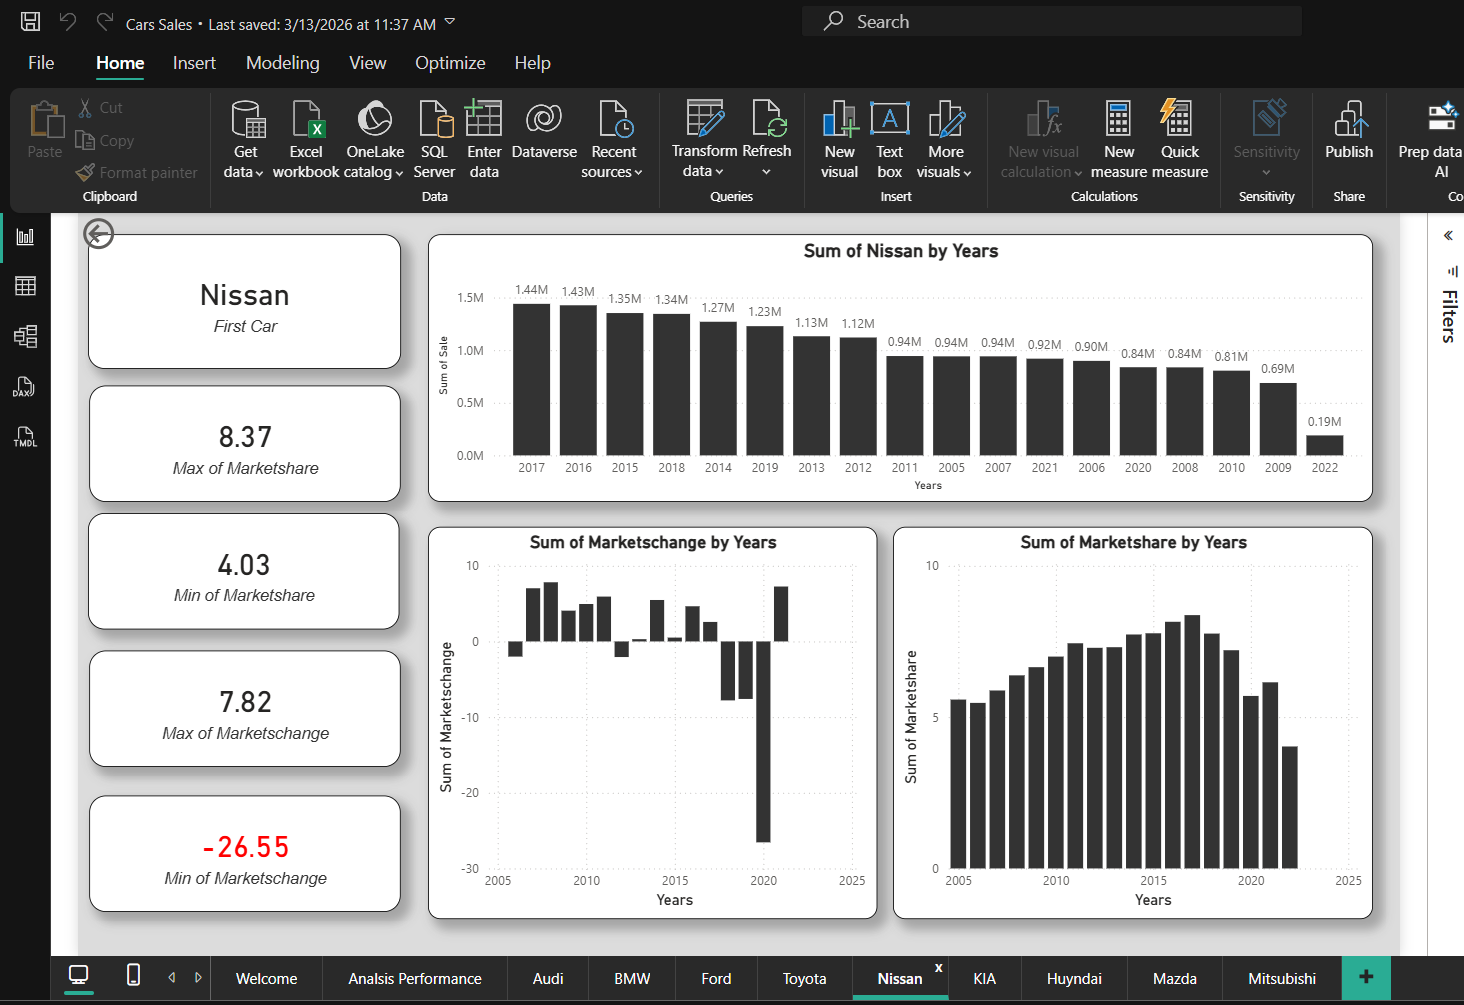

What the dashboard file says about the page in this screenshot:
{"tool":"powerbi","page":{"name":"Nissan","canvas":[1280,720],"ordinal":6},"visuals":[{"type":"card","fields":{"Values":["Min(CAR SALES GLOBALY.Car)"]},"box":[9.6,20.6,303.3,130.4],"z":0},{"type":"actionButton","box":[0,0,100,40],"z":1000},{"type":"card","fields":{"Values":["Max(CAR SALES GLOBALY.Marketshare)"]},"box":[11,167.4,301.9,112.5],"z":2000},{"type":"card","fields":{"Values":["Min(CAR SALES GLOBALY.Marketschange)"]},"box":[11,564,301.9,112.5],"z":3000},{"type":"card","fields":{"Values":["Max(CAR SALES GLOBALY.Marketschange)"]},"box":[11,424,301.9,112.5],"z":4000},{"type":"card","fields":{"Values":["Min(CAR SALES GLOBALY.Marketshare)"]},"box":[9.6,290.9,301.9,112.5],"z":5000},{"type":"columnChart","title":"Sum of Nissan by Years","fields":{"Category":["CAR SALES GLOBALY.Years"],"Y":["Sum(CAR SALES GLOBALY.Sale)"]},"box":[338.9,20.6,915.3,259.3],"z":6000},{"type":"lineStackedColumnComboChart","fields":{"Category":["CAR SALES GLOBALY.Years"],"Y":["Sum(CAR SALES GLOBALY.Marketschange)"]},"box":[338.9,303.3,435,380.1],"z":7000},{"type":"lineStackedColumnComboChart","fields":{"Category":["CAR SALES GLOBALY.Years"],"Y":["Sum(CAR SALES GLOBALY.Marketshare)"]},"box":[789,303.3,465.2,380.1],"z":8000}]}

Visuals, with their boxes on the page's 1280x720 design canvas (x1, y1, x2, y2). These are canvas units, not pixel positions in the 1464x1005 screenshot, which may show the page scaled, cropped or inside an application window:
card - Min(CAR SALES GLOBALY.Car): detection(10, 21, 313, 151)
actionButton: detection(0, 0, 100, 40)
card - Max(CAR SALES GLOBALY.Marketshare): detection(11, 167, 313, 280)
card - Min(CAR SALES GLOBALY.Marketschange): detection(11, 564, 313, 676)
card - Max(CAR SALES GLOBALY.Marketschange): detection(11, 424, 313, 536)
card - Min(CAR SALES GLOBALY.Marketshare): detection(10, 291, 312, 403)
"Sum of Nissan by Years" columnChart: detection(339, 21, 1254, 280)
lineStackedColumnComboChart - CAR SALES GLOBALY.Years x Sum(CAR SALES GLOBALY.Marketschange): detection(339, 303, 774, 683)
lineStackedColumnComboChart - CAR SALES GLOBALY.Years x Sum(CAR SALES GLOBALY.Marketshare): detection(789, 303, 1254, 683)
